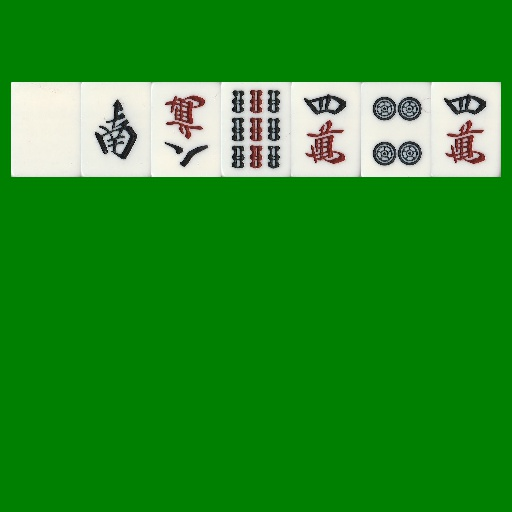4m: (291, 82, 361, 177), (431, 82, 501, 177)
4p: (361, 82, 431, 177)
8m: (151, 82, 221, 177)
9s: (221, 82, 291, 177)
south: (81, 82, 151, 177)
white: (11, 82, 81, 177)
